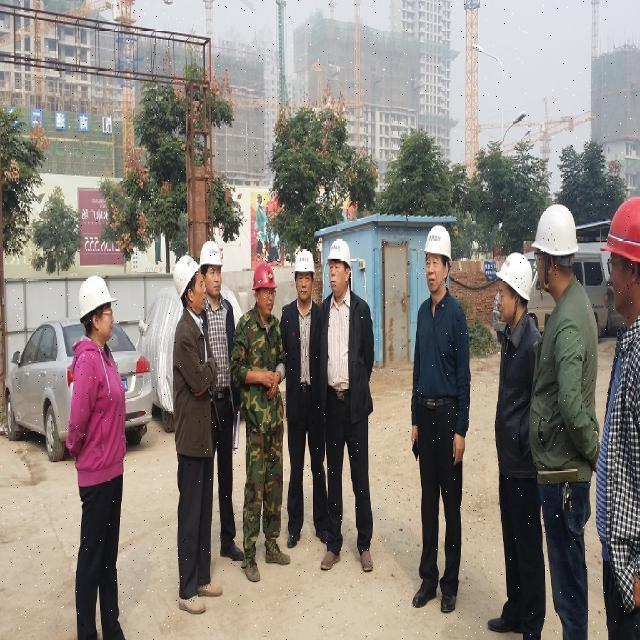Hard_hat: (528, 205, 578, 261), (77, 274, 124, 320), (168, 255, 201, 297), (422, 225, 455, 263), (325, 239, 354, 273), (199, 239, 227, 270), (292, 248, 315, 276)
Person: (275, 241, 376, 553), (532, 207, 597, 638), (63, 275, 127, 640), (413, 232, 474, 607)
Vest: (282, 301, 360, 388)
